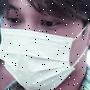with_mask: (1, 1, 90, 90)
